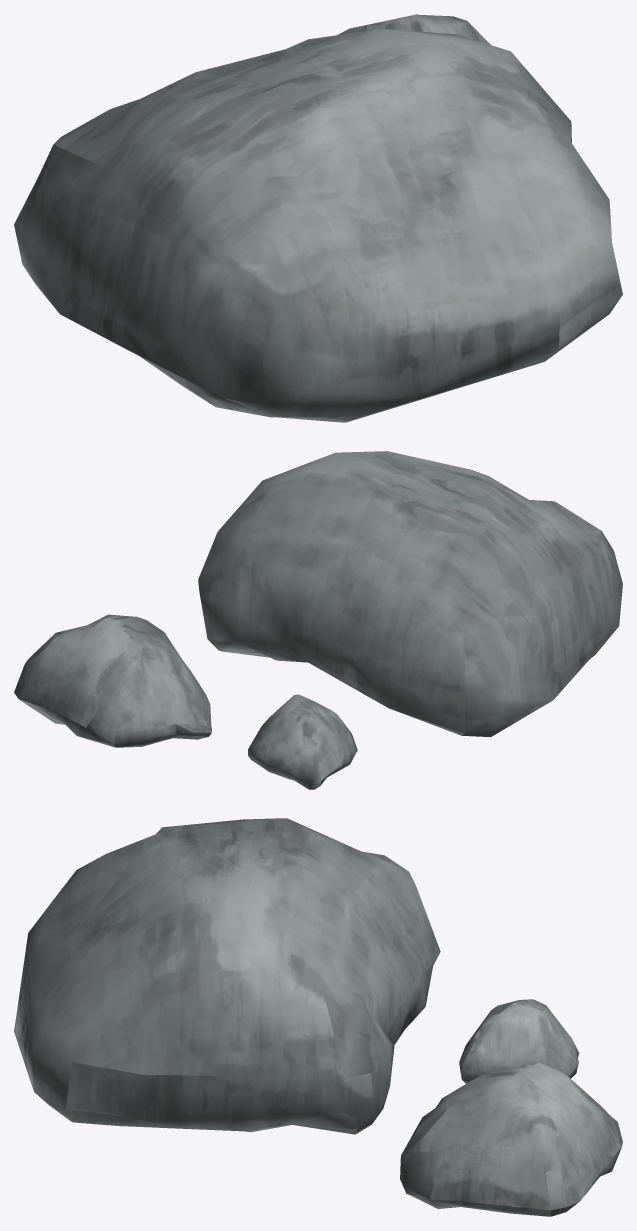
Rendered from stone.glb.
3 views of the same model, one above another, from view 1: azimuth 30°, elevation 25°; view 2: azimuth 150°, elevation 25°; view 3: azimuth 270°, elevation 25° (orthographic). The views are drawn at different scales.
Parts seen in each view (by area): view 1: Cube.001, Cube; view 2: Cube.001, Cube, Cube.002; view 3: Cube.001, Cube, Cube.002.
Boxes of the visible parts, x1,y1,x2,y2 form: Cube.001: (14, 29, 622, 422); Cube: (337, 14, 490, 44); Cube.001: (198, 451, 622, 737); Cube: (14, 614, 211, 747); Cube.002: (248, 694, 357, 789); Cube.001: (14, 818, 440, 1134); Cube: (400, 1062, 622, 1216); Cube.002: (459, 999, 579, 1083).
Size of the model in its own units: 2.54 by 1.19 by 2.65.
Materials: 1 (1 with a texture image).
